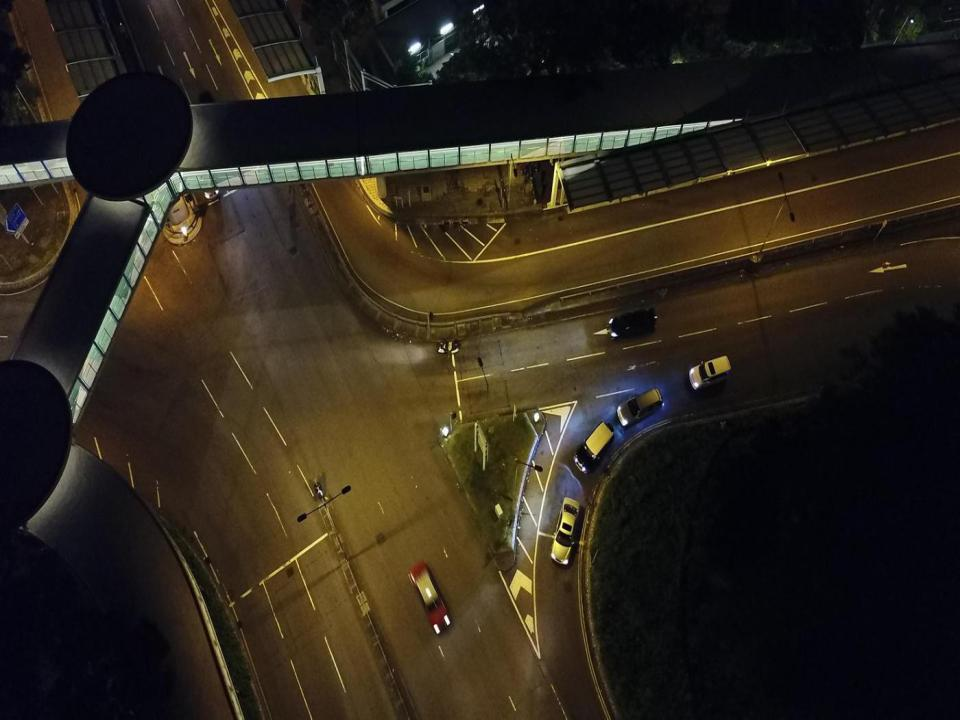car: (408, 560, 451, 635), (573, 420, 615, 475), (550, 496, 581, 567), (616, 386, 664, 428), (607, 304, 657, 340), (688, 355, 731, 392)
